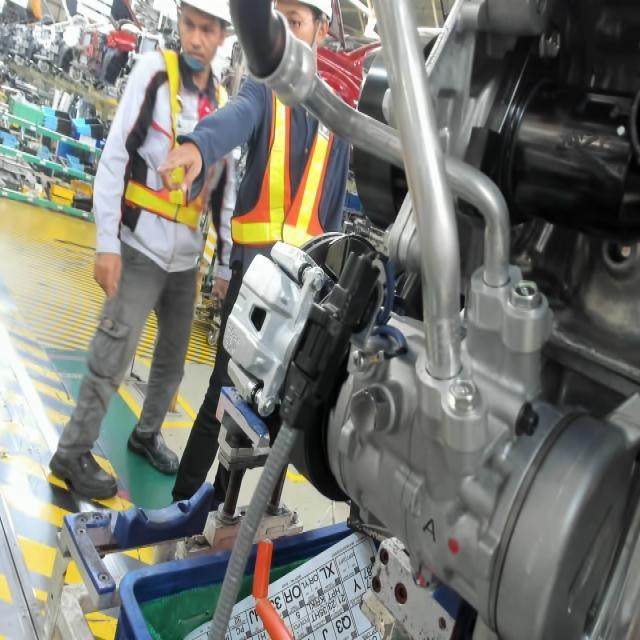Compressor-A: (420, 511, 443, 548)
